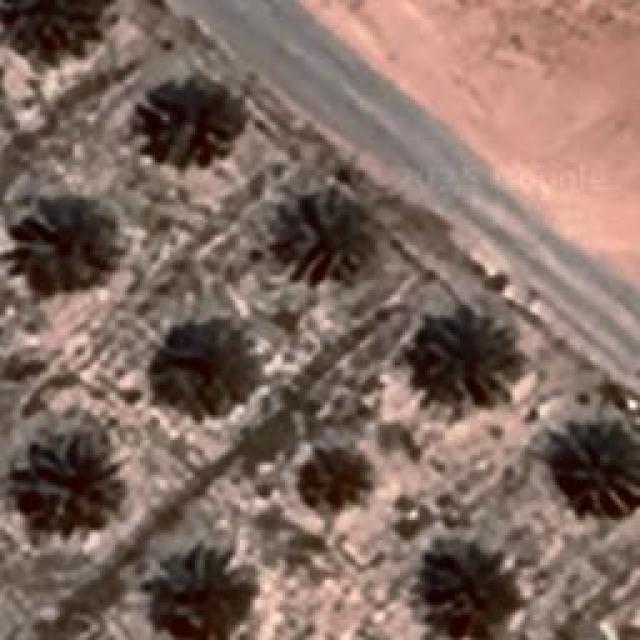PalmTree: (154, 316, 258, 432), (403, 537, 516, 640), (415, 310, 520, 408), (134, 550, 248, 640), (131, 76, 239, 169), (276, 186, 384, 279), (12, 200, 112, 292), (20, 442, 120, 530), (562, 422, 636, 510), (2, 0, 99, 62), (298, 446, 370, 514)
